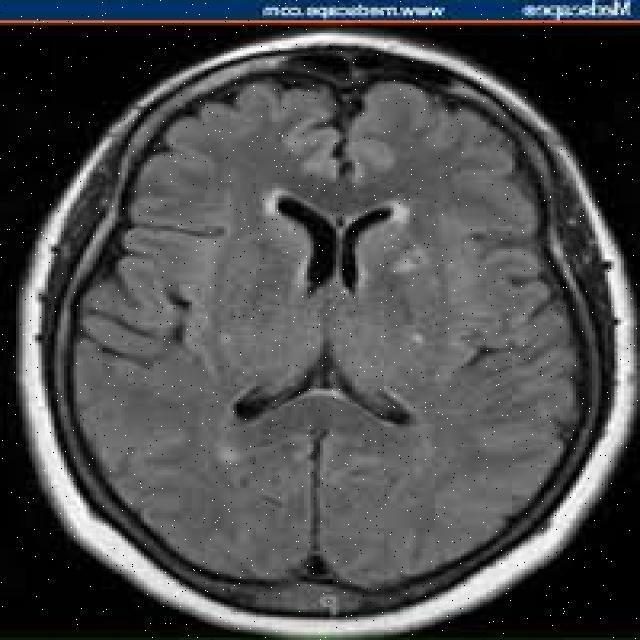No_Tumor: (18, 30, 636, 634)
